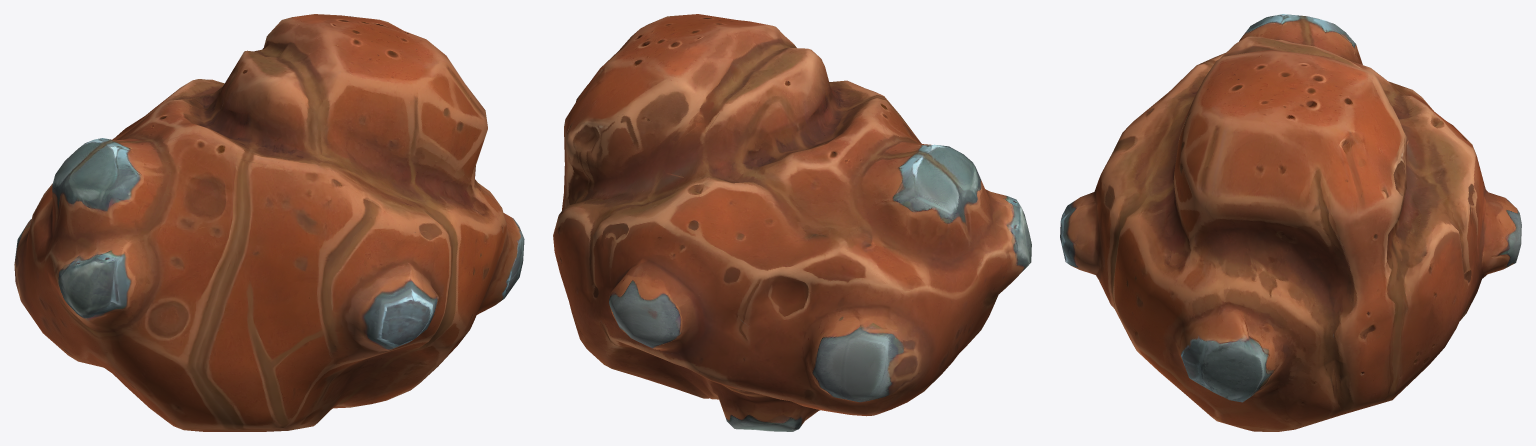
The picture shows the model from 3 angles, left to right: view 1: azimuth 30°, elevation 25°; view 2: azimuth 150°, elevation 25°; view 3: azimuth 270°, elevation 25°; orthographic projection.
Size of the model in its own units: 2 by 1.54 by 1.77.
1 material, 1 textured.
